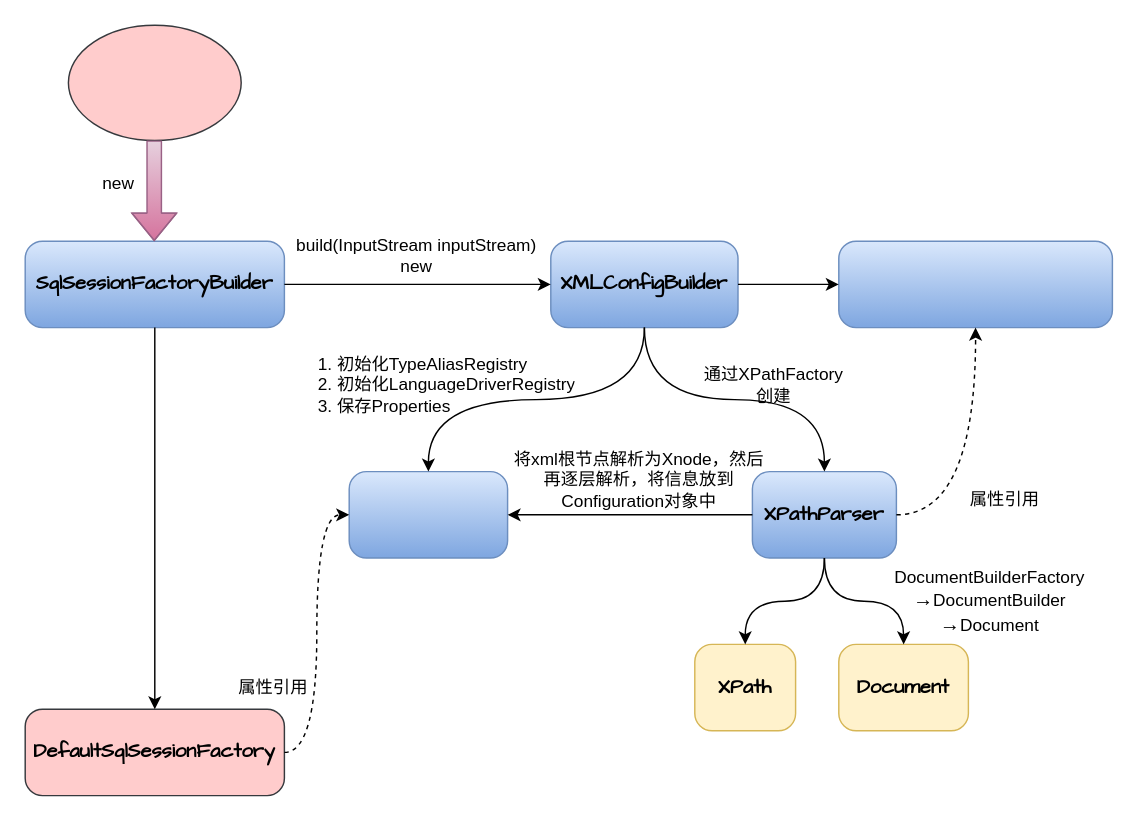
The diagram is 1138 pixels wide and 821 high, and some of its shapes have lost their labels. Each missing label, with the centre of its shape:
"Configuration" belongs at (428,514).
"XMLMapperEntityResolver" belongs at (974,284).
"入口" belongs at (154,82).
